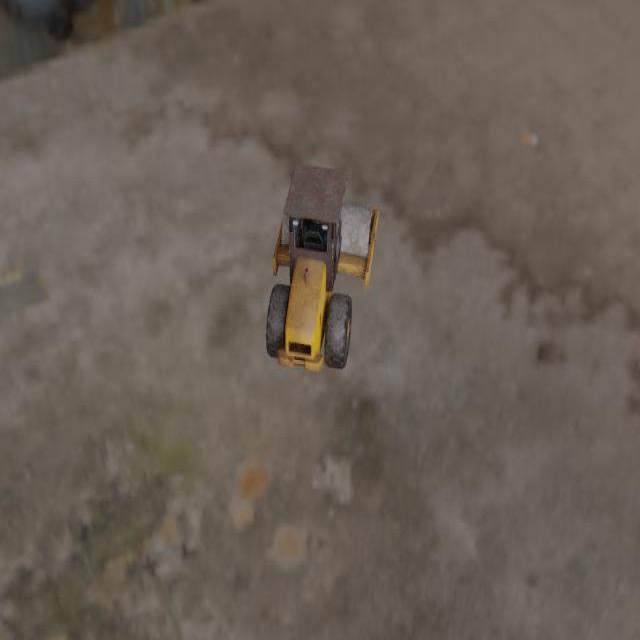Roller: (265, 164, 378, 372)
